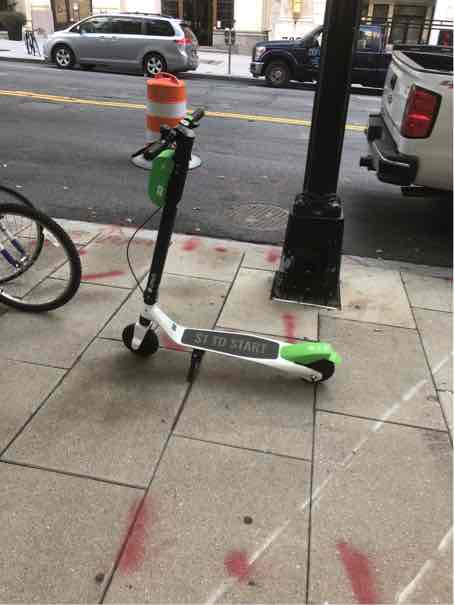scooter: (107, 99, 357, 393)
